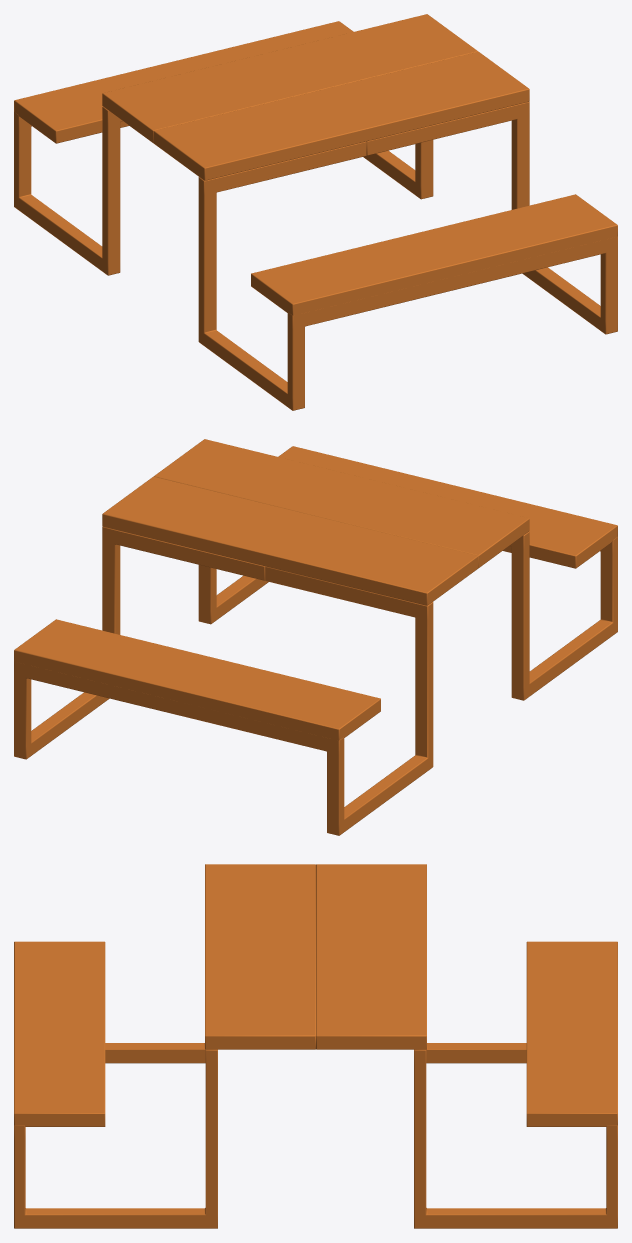
The model's file is Orange_Stol.fbx.
The picture shows the model from 3 angles, top to bottom: view 1: azimuth 30°, elevation 25°; view 2: azimuth 150°, elevation 25°; view 3: azimuth 270°, elevation 25°; orthographic projection. The views are drawn at different scales.
Visible parts, largest first — view 1: Orang_Bord_Kopia; view 2: Orang_Bord_Kopia; view 3: Orang_Bord_Kopia.
Boxes of the visible parts, x1,y1,x2,y2 form: Orang_Bord_Kopia: [14, 14, 617, 410]; Orang_Bord_Kopia: [14, 439, 617, 835]; Orang_Bord_Kopia: [14, 864, 617, 1228].
Bounding box in the file's own units: 520 × 273 × 772.
